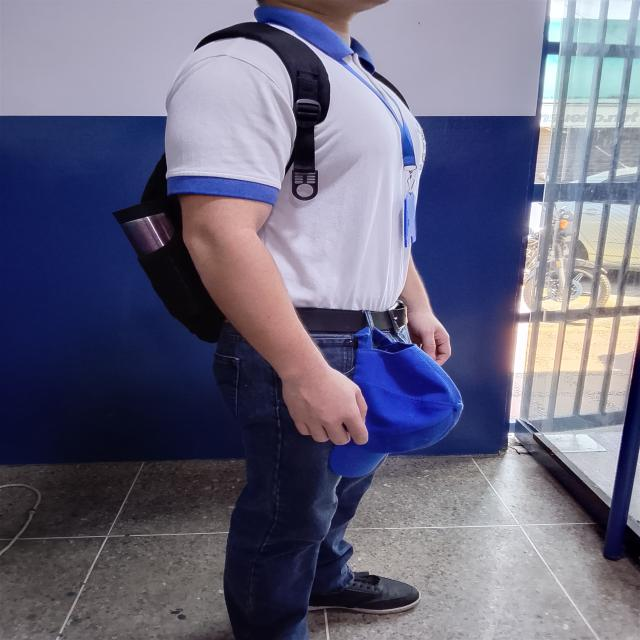carnet: (404, 193, 416, 248)
pantalon_oscuro: (211, 325, 412, 640)
uniforme_superior: (165, 5, 428, 311)
